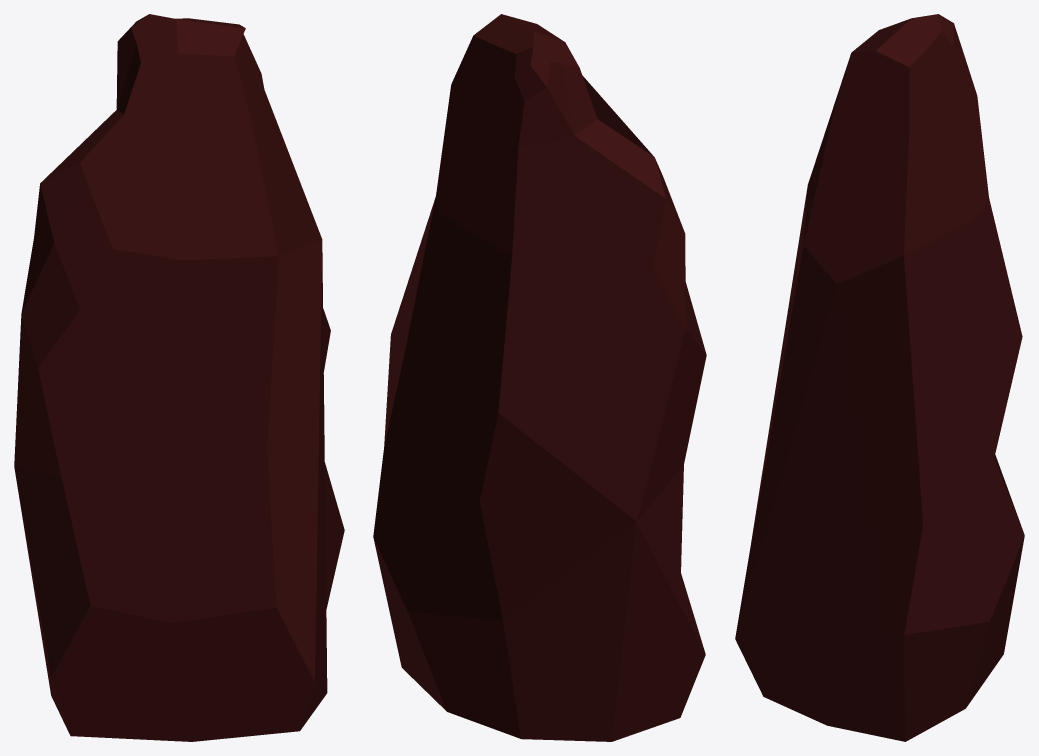
File: PointyRock_02.fbx
3 views of the same model, side by side, from view 1: azimuth 30°, elevation 25°; view 2: azimuth 150°, elevation 25°; view 3: azimuth 270°, elevation 25° (orthographic). The views are drawn at different scales.
Parts seen in each view (by area): view 1: Cube.004; view 2: Cube.004; view 3: Cube.004.
Part boxes in pixels (left/top/right/bottom): Cube.004: left=14, top=14, right=344, bottom=741; Cube.004: left=373, top=14, right=706, bottom=741; Cube.004: left=735, top=14, right=1024, bottom=741.
Bounding box in the file's own units: 460 × 927 × 368.
